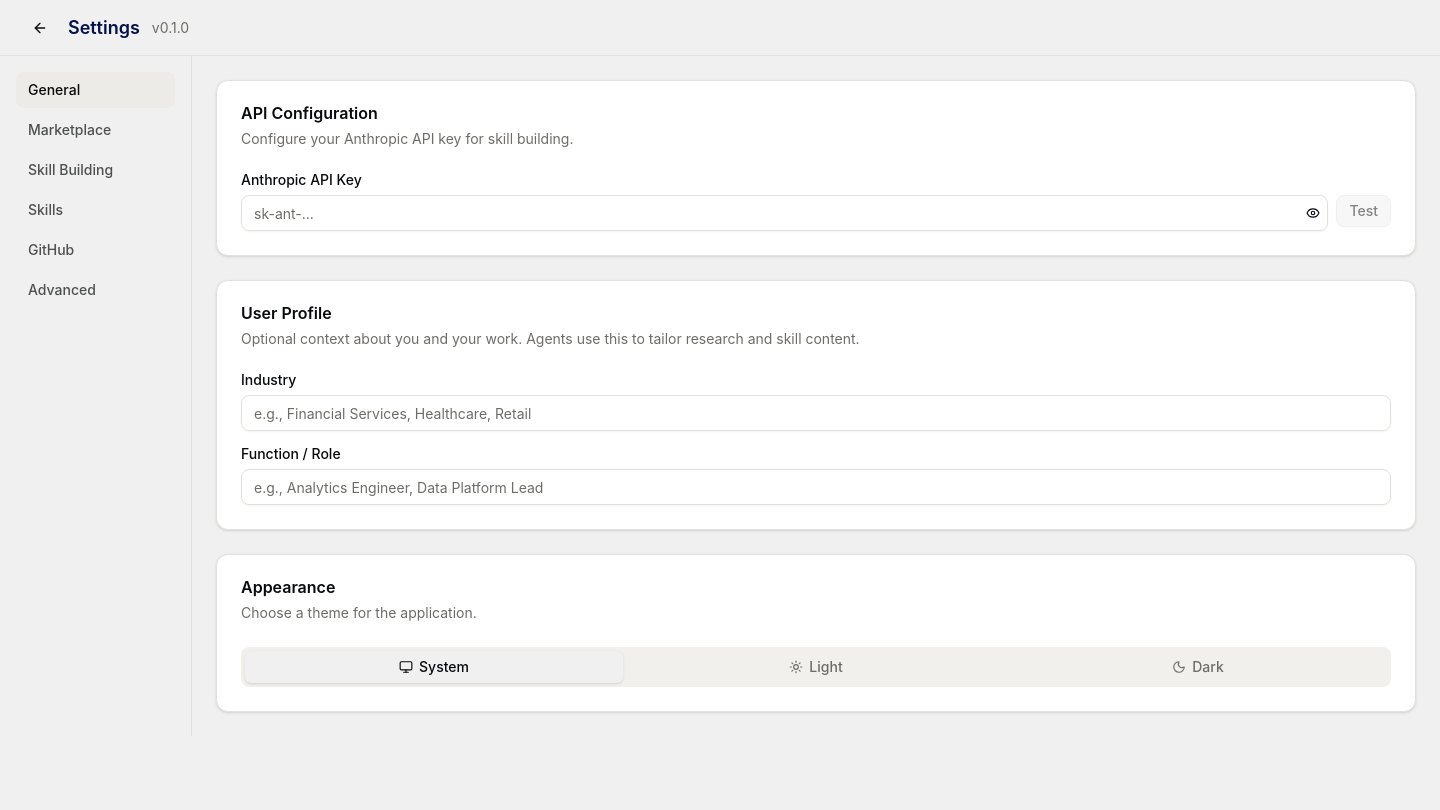
Test: SettingsPage › renders Skills Folder path when configured
The image size is (1440, 810).
Expected: the heading "Settings" is shown, [68,14,140,42]
Step 1. Click the button "Advanced" → (96, 290), box [16,272,175,308]
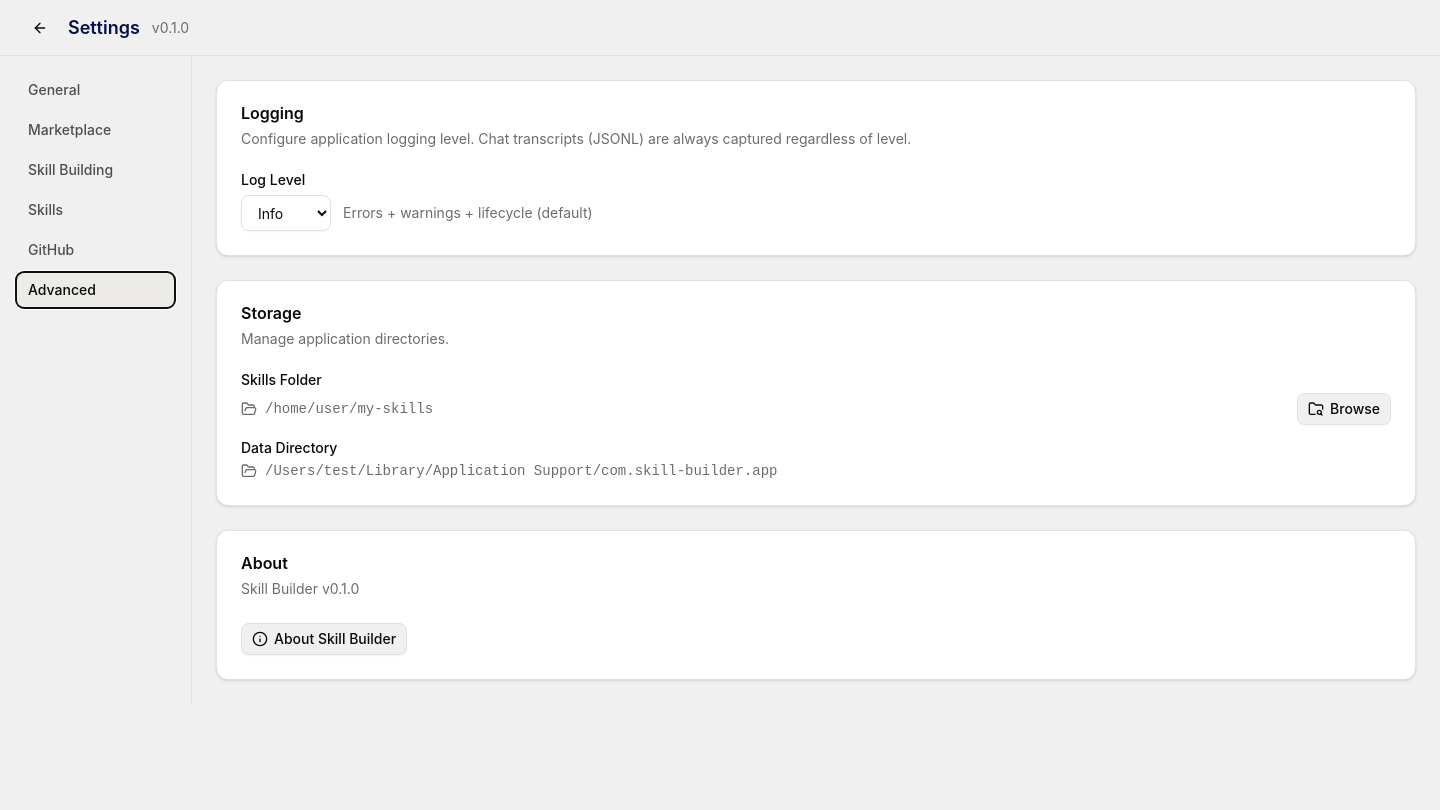
Result: the text "/home/user/my-skills" is shown at [265,401,433,417]
